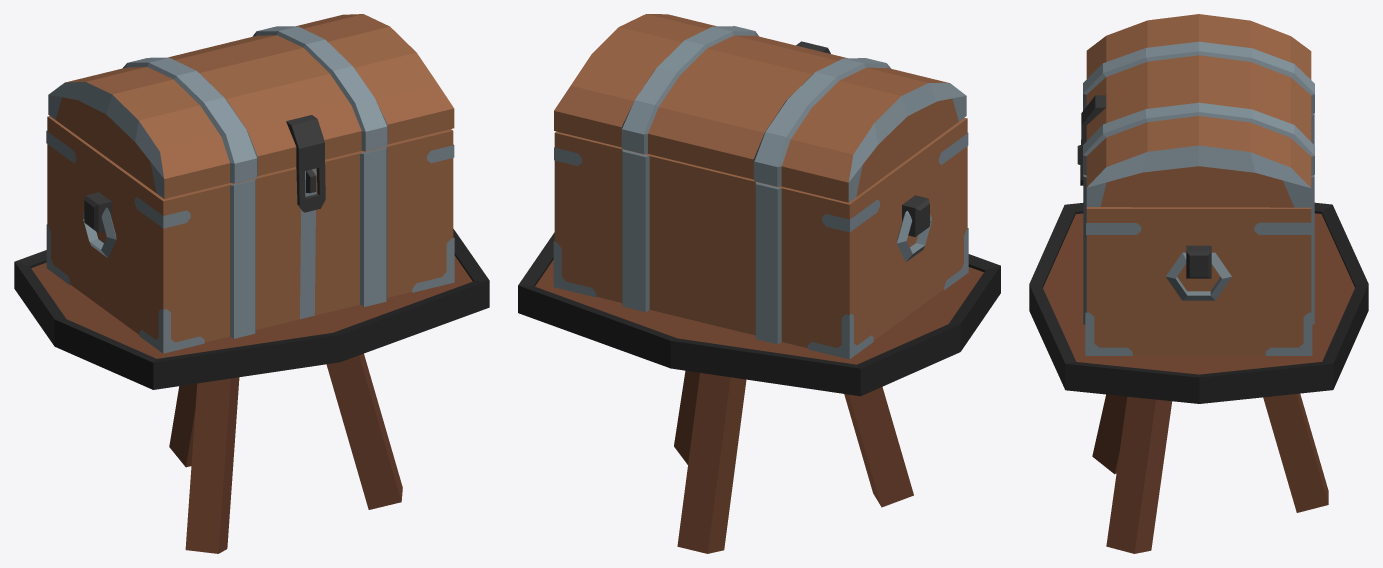
Rendered from chest_with_gear.fbx.
The picture shows the model from 3 angles, left to right: view 1: azimuth 30°, elevation 25°; view 2: azimuth 150°, elevation 25°; view 3: azimuth 270°, elevation 25°; orthographic projection. The views are drawn at different scales.
Visible parts, largest first — view 1: chest.001, chest_lid.001, table; view 2: chest.001, chest_lid.001, table; view 3: chest_lid.001, table, chest.001.
Boxes of the visible parts, x1=… form: chest.001: x1=46, y1=116, x2=454, y2=353; chest_lid.001: x1=48, y1=14, x2=454, y2=212; table: x1=14, y1=229, x2=489, y2=553; chest.001: x1=553, y1=118, x2=968, y2=359; chest_lid.001: x1=554, y1=14, x2=966, y2=202; table: x1=518, y1=232, x2=1000, y2=553; chest_lid.001: x1=1080, y1=14, x2=1314, y2=207; table: x1=1029, y1=202, x2=1368, y2=553; chest.001: x1=1077, y1=113, x2=1314, y2=355.
Bounding box in the file's own units: 51.17 × 54.81 × 39.3.
